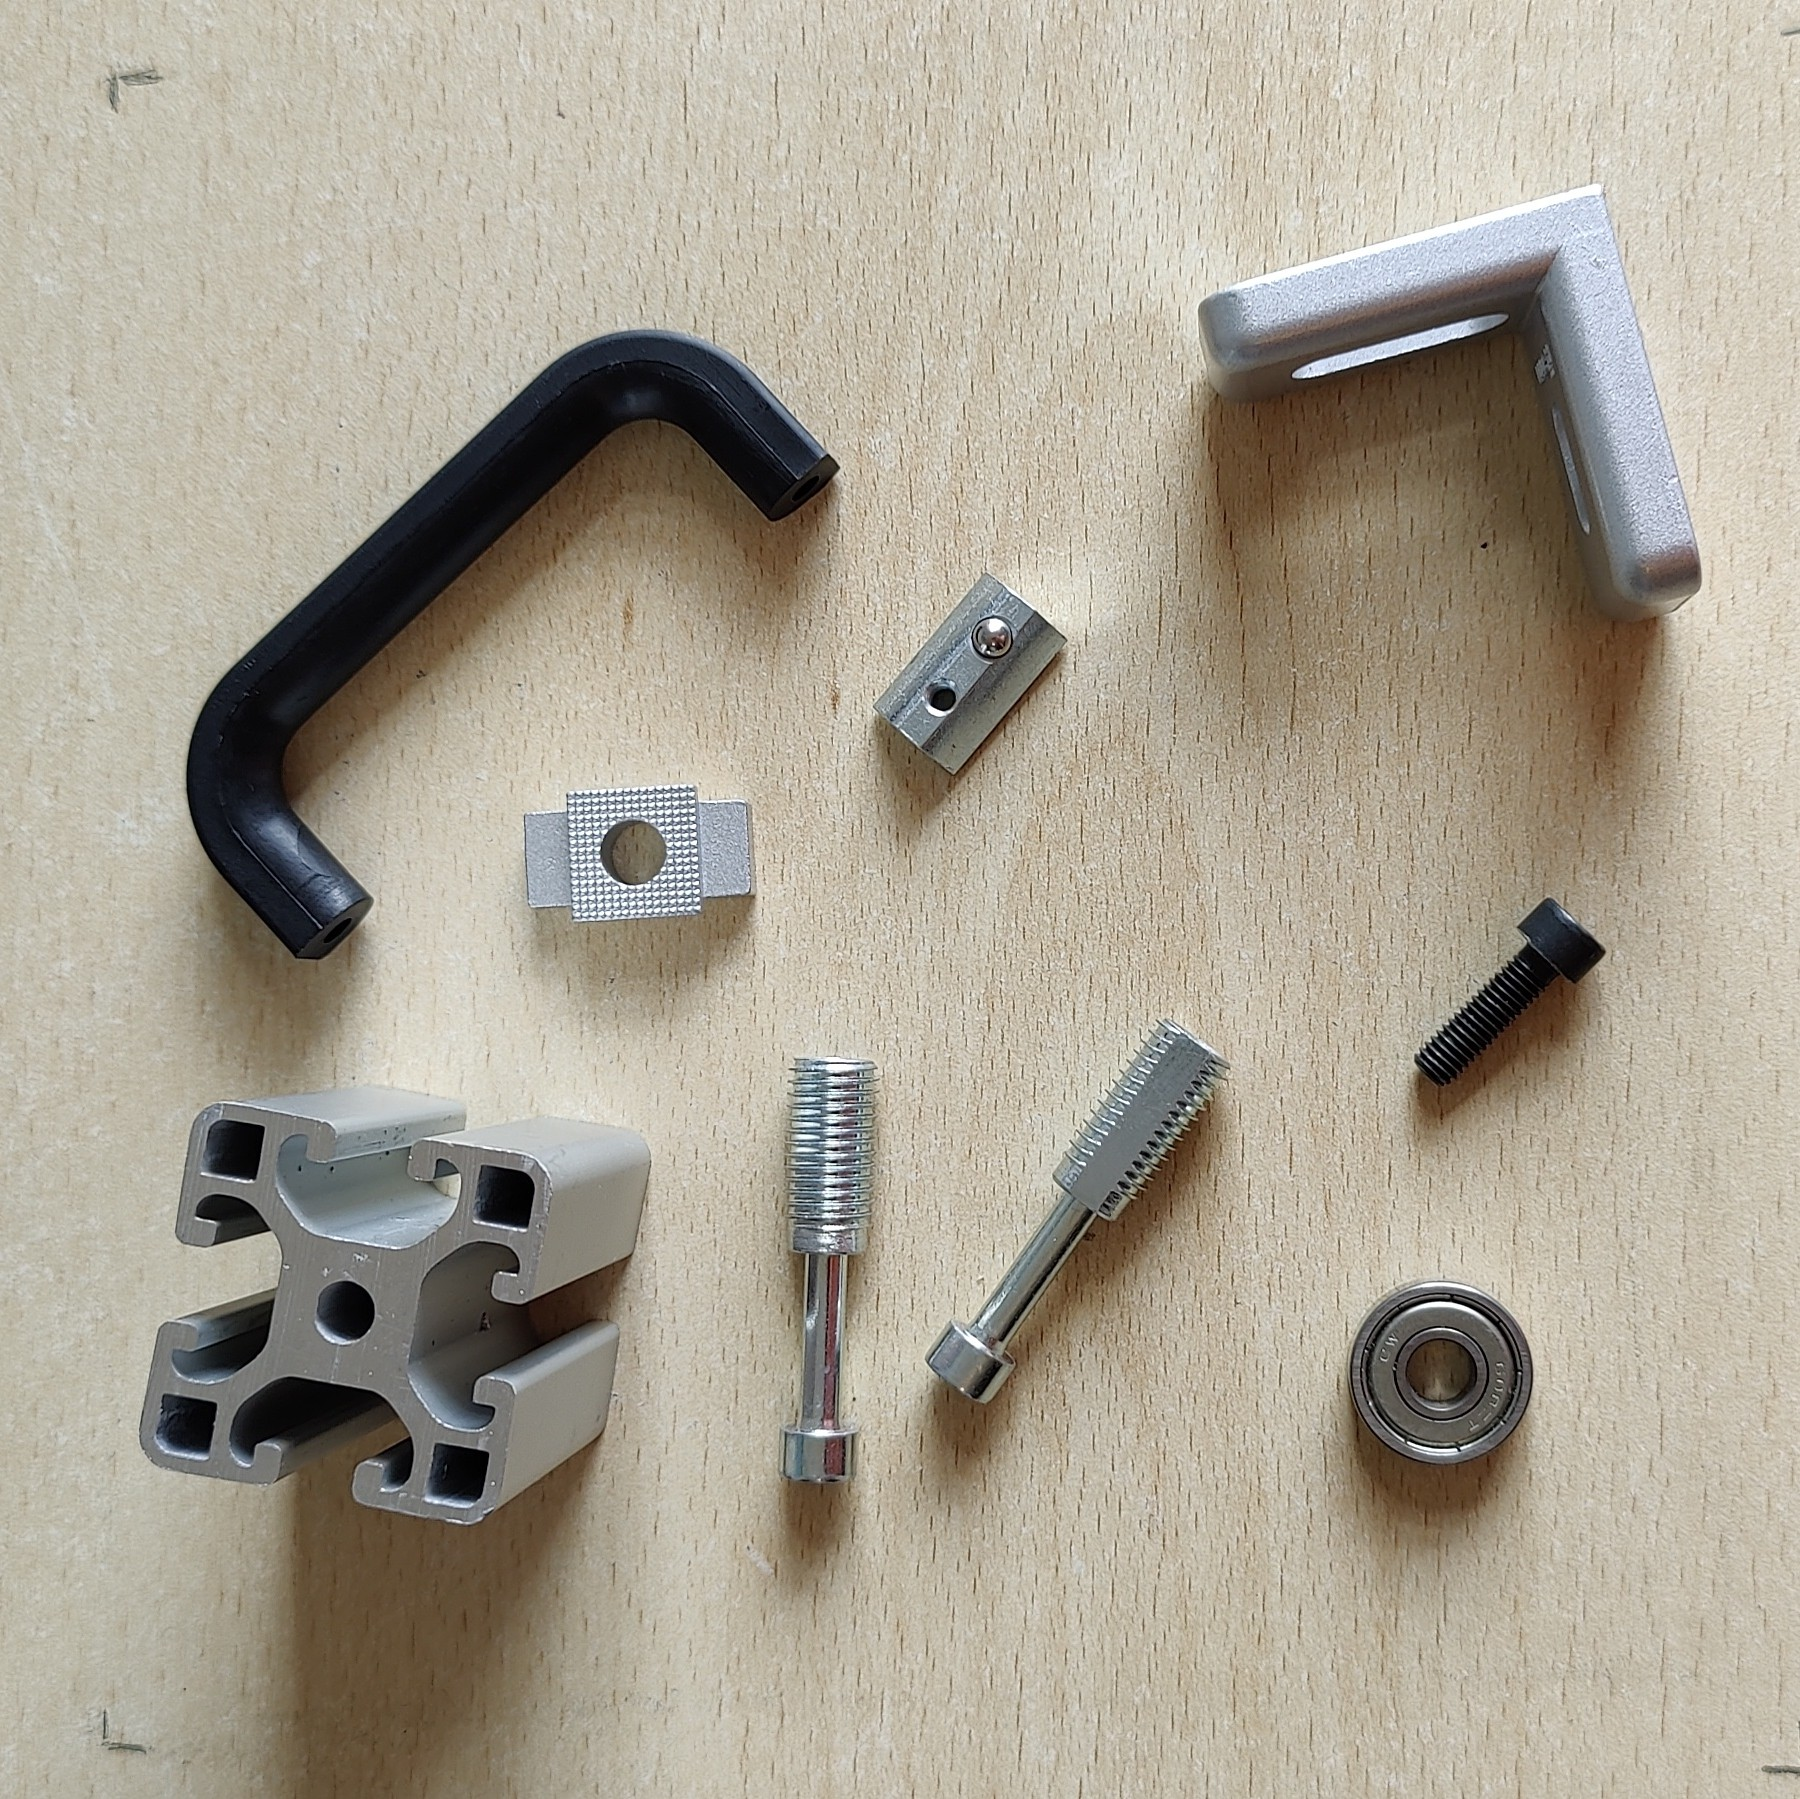Aluminium Extension: (135, 1084, 652, 1530)
Ball Bearing: (1347, 1277, 1537, 1471)
Multiwinkel: (1192, 181, 1704, 628)
Pull Handle: (184, 326, 842, 964)
Shoulder Socket Head Cap Screw: (919, 1015, 1233, 1409), (776, 1053, 883, 1489)
Socket Head Cap Screw: (1413, 891, 1607, 1091)
T Nut Square: (520, 779, 761, 928)
T Spring Nut: (871, 572, 1067, 779)
